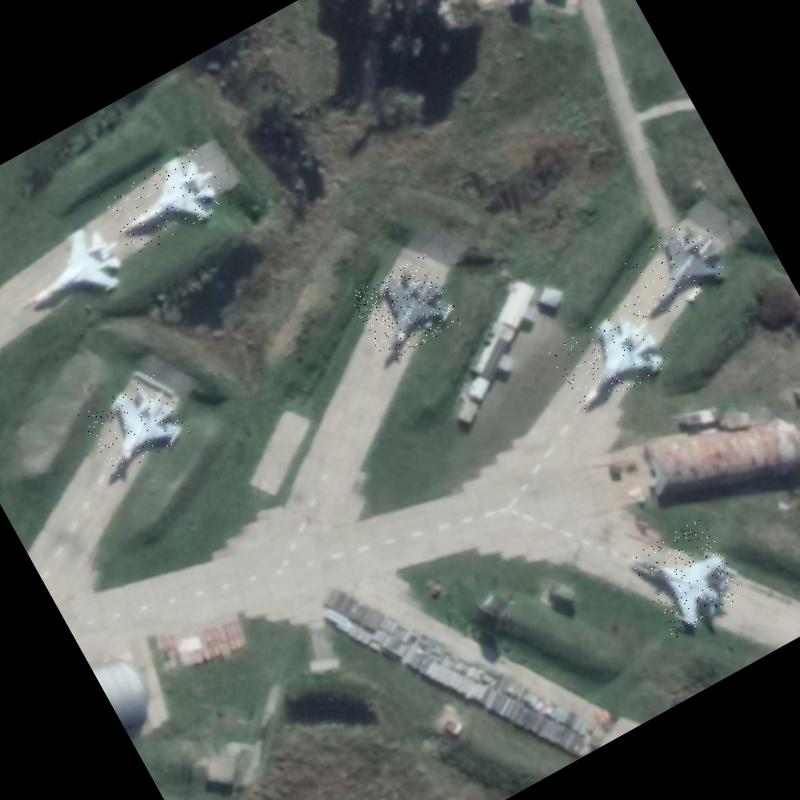A1: (98, 141, 232, 259), (4, 212, 138, 329), (546, 298, 672, 414), (628, 516, 746, 639), (614, 212, 734, 323), (346, 252, 463, 365), (77, 370, 192, 478)
